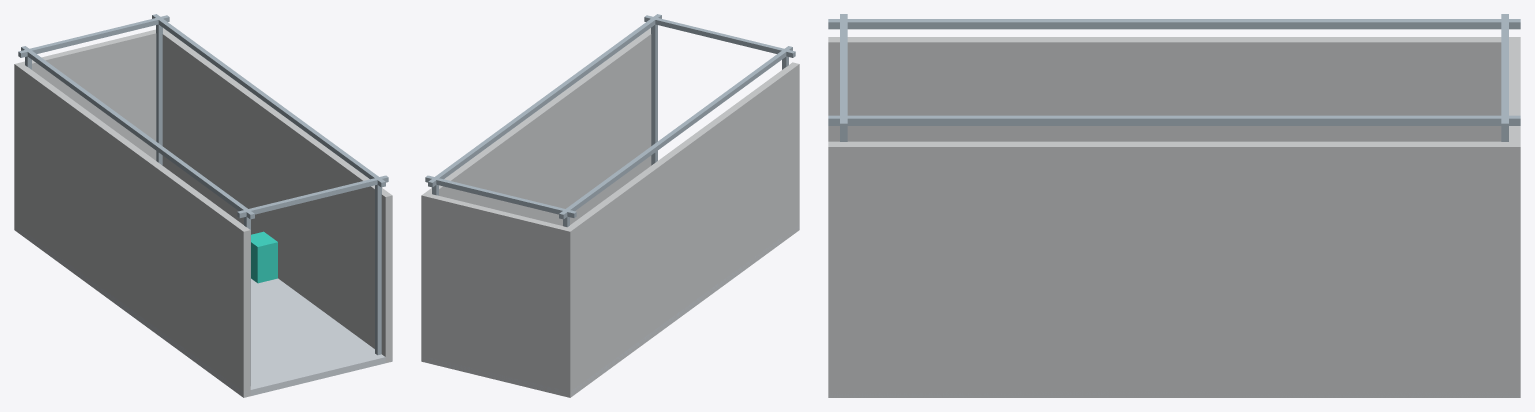
3 renders of one model, left to right at view 1: azimuth 30°, elevation 25°; view 2: azimuth 150°, elevation 25°; view 3: azimuth 270°, elevation 25°, orthographic. The views are drawn at different scales.
Visible parts, largest first — view 1: Exhibition Booth Concept; view 2: Exhibition Booth Concept; view 3: Exhibition Booth Concept.
Boxes of the visible parts, box(x1,y1,x2,y2) form: Exhibition Booth Concept: box(14, 14, 392, 397); Exhibition Booth Concept: box(421, 14, 799, 397); Exhibition Booth Concept: box(828, 14, 1520, 397).
Size of the model in its own units: 3 by 3.49 by 8.
